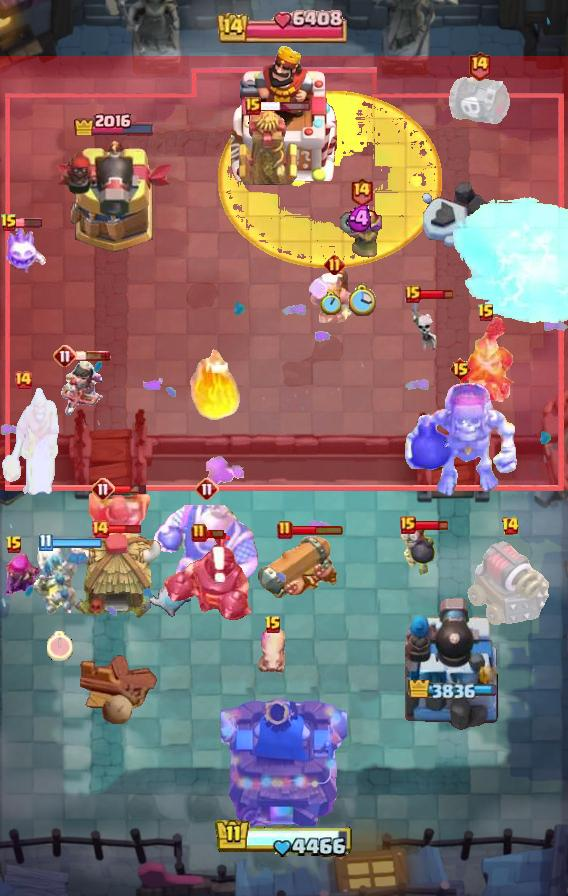bat: (147, 584, 191, 622)
battle-healer: (258, 530, 338, 602)
bomb-tower: (340, 205, 382, 273)
clock: (215, 818, 353, 859), (217, 9, 351, 43)
electro-giant: (401, 380, 519, 498)
electro-spirit: (347, 205, 375, 232)
elixir: (348, 282, 376, 317), (47, 631, 73, 661), (320, 293, 341, 316)
emote: (291, 524, 344, 536), (259, 101, 311, 112), (51, 538, 102, 548), (419, 287, 454, 301), (414, 520, 449, 533), (7, 217, 43, 229), (75, 350, 111, 362), (108, 523, 144, 535), (112, 483, 147, 495), (205, 528, 225, 539)
evolution-symbol: (0, 545, 40, 599)
firecracker: (89, 487, 153, 553)
freeze: (0, 386, 62, 498)
giant: (257, 624, 289, 674)
giant-skeleton: (154, 499, 261, 601)
goblin-brawler: (237, 106, 299, 190)
golem: (467, 537, 553, 629)
heal-spirit: (411, 299, 439, 351)
ice-golem: (399, 522, 435, 576)
king-tower: (221, 690, 347, 826), (231, 43, 337, 181)
mega-knight: (448, 194, 568, 330)
mighty-miner: (307, 271, 361, 325)
mini-pekka: (28, 539, 92, 621)
mirror: (0, 227, 48, 275)
phoenix-egg: (218, 90, 442, 268)
prince: (68, 531, 162, 621)
royal-guardian: (160, 533, 256, 623)
royal-recruit-evolution: (448, 71, 510, 127)
selected: (72, 110, 155, 136), (408, 680, 498, 700)
skeleton-dragon: (58, 358, 106, 420)
text: (467, 51, 492, 82), (350, 177, 375, 208), (53, 344, 77, 368), (91, 477, 115, 501), (195, 477, 219, 501), (448, 357, 471, 381), (323, 253, 344, 275), (13, 370, 33, 390), (90, 519, 110, 539), (500, 516, 519, 536), (0, 213, 18, 233), (477, 303, 495, 323), (5, 535, 23, 555), (264, 615, 282, 635), (277, 520, 293, 540), (191, 523, 207, 543), (245, 97, 261, 115), (405, 285, 421, 303), (400, 516, 416, 534), (39, 533, 53, 552)
tower-bar: (53, 138, 175, 256), (405, 595, 501, 731)
valkyrie: (183, 335, 243, 425)
wall-breaker-evolution: (457, 318, 516, 403)
